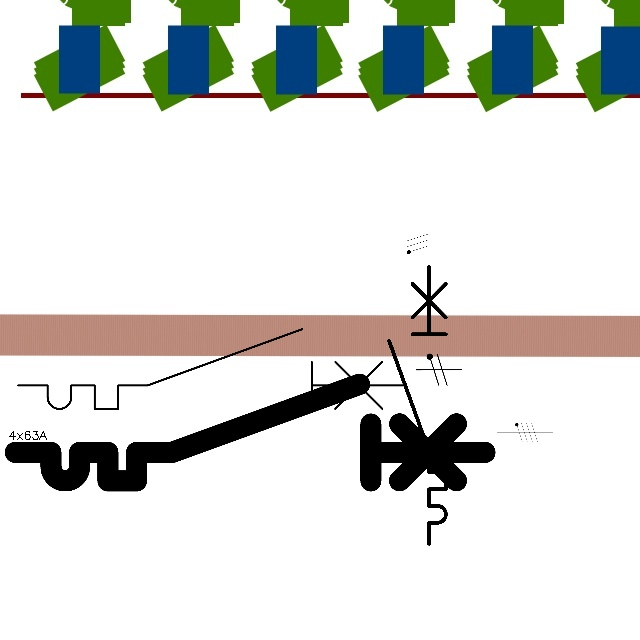interruptor_termomagnetico: (3, 372, 497, 493), (8, 319, 415, 419), (382, 259, 453, 550)
